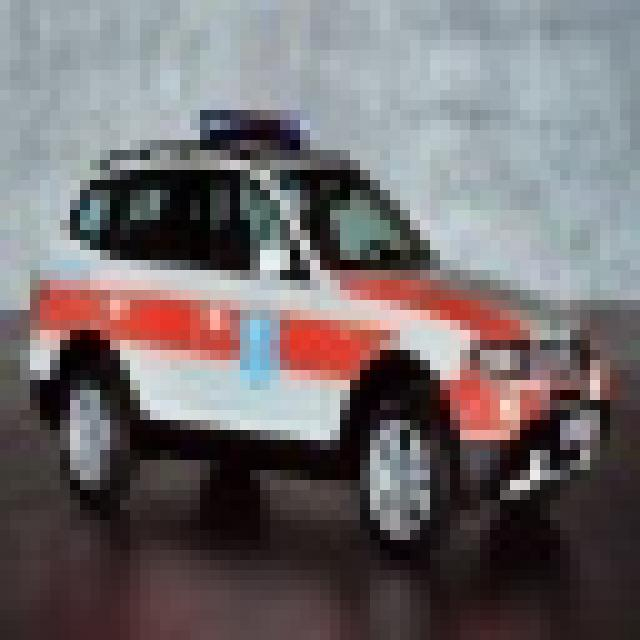Ambulance: (20, 100, 610, 550)
